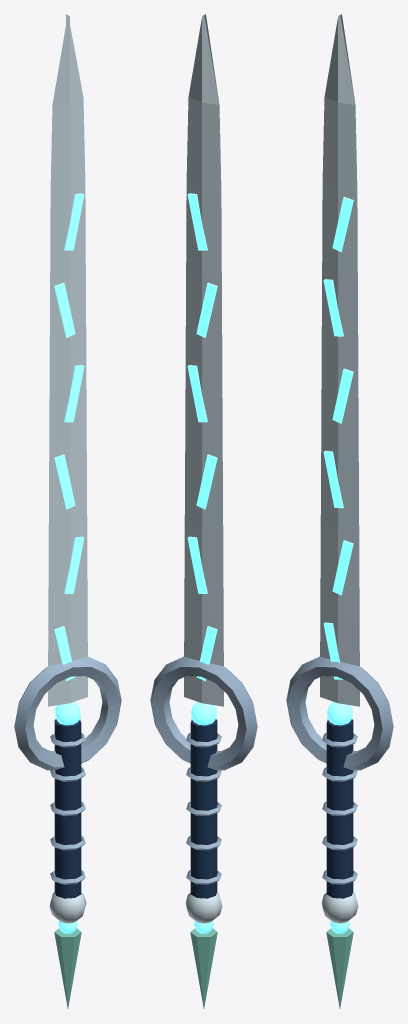
The model's file is sword_water.glb.
3 views of the same model, side by side, from view 1: azimuth 30°, elevation 25°; view 2: azimuth 150°, elevation 25°; view 3: azimuth 330°, elevation 25° (orthographic).
Parts seen in each view (by area): view 1: Sword; view 2: Sword; view 3: Sword.
Boxes of the visible parts, left/top/right/bottom form: Sword: left=14, top=14, right=121, bottom=1008; Sword: left=150, top=14, right=257, bottom=1008; Sword: left=286, top=14, right=393, bottom=1008.
Bounding box in the file's own units: 0.144 × 1.27 × 0.044.
